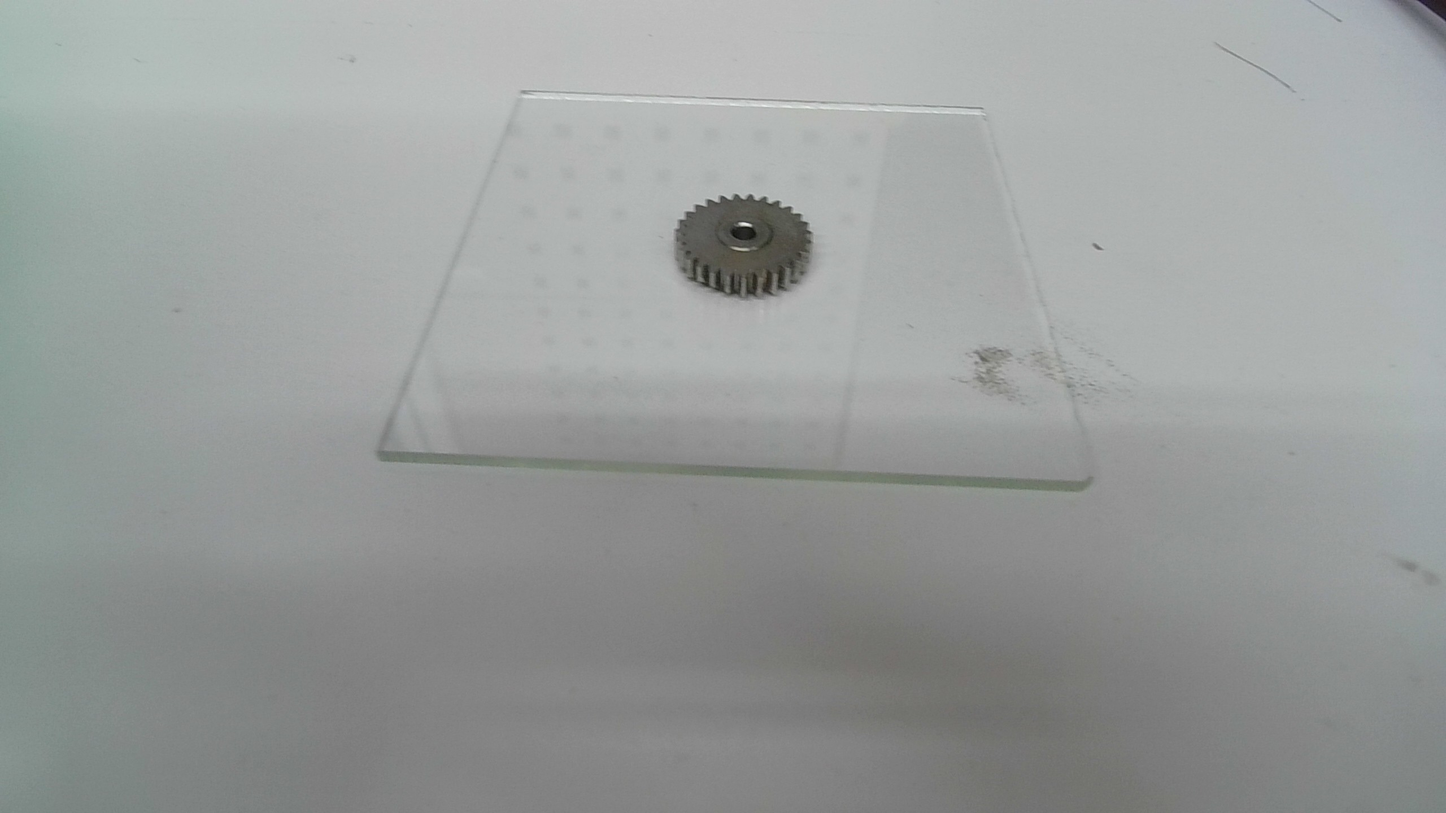gear: (672, 191, 816, 301)
